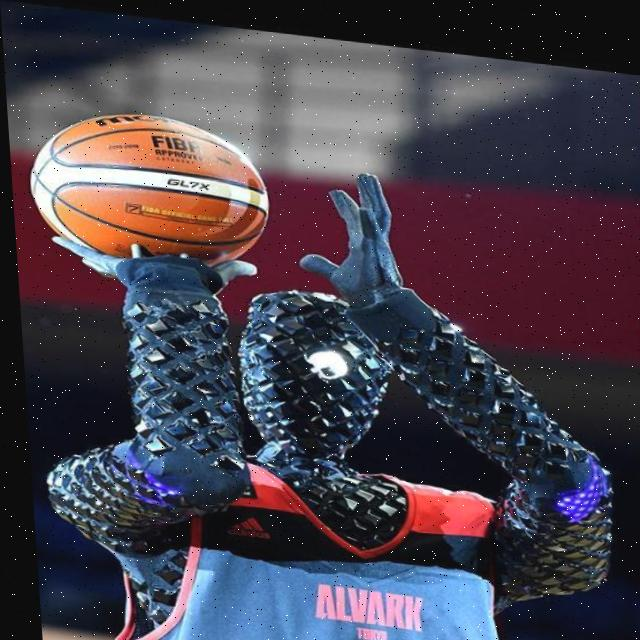Basketball: (21, 101, 273, 271)
